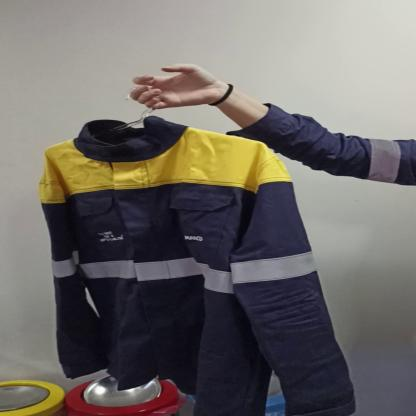C_eletrica: (33, 119, 357, 416)
